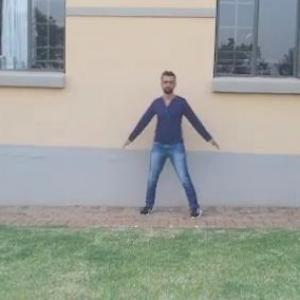land: (124, 75, 224, 228)
